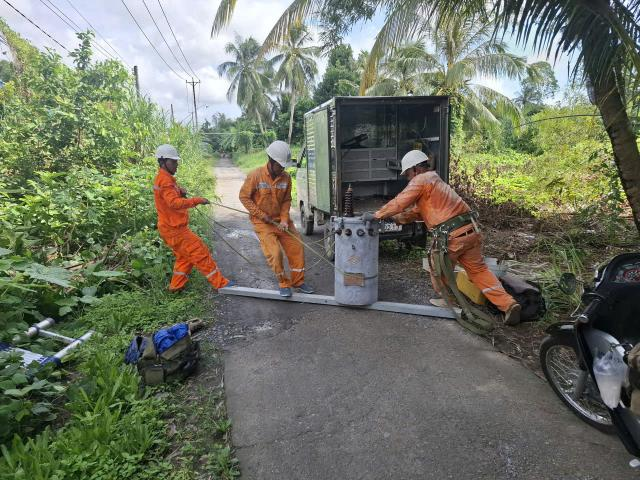harness: (422, 209, 486, 246)
helmet: (266, 134, 297, 169), (397, 148, 433, 177), (152, 143, 185, 166)
shoes: (429, 295, 457, 314), (291, 279, 316, 297), (503, 304, 522, 327), (217, 277, 241, 292), (276, 282, 292, 300)
